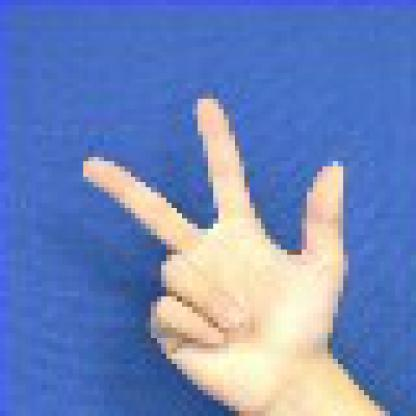eight: (63, 73, 406, 411)
